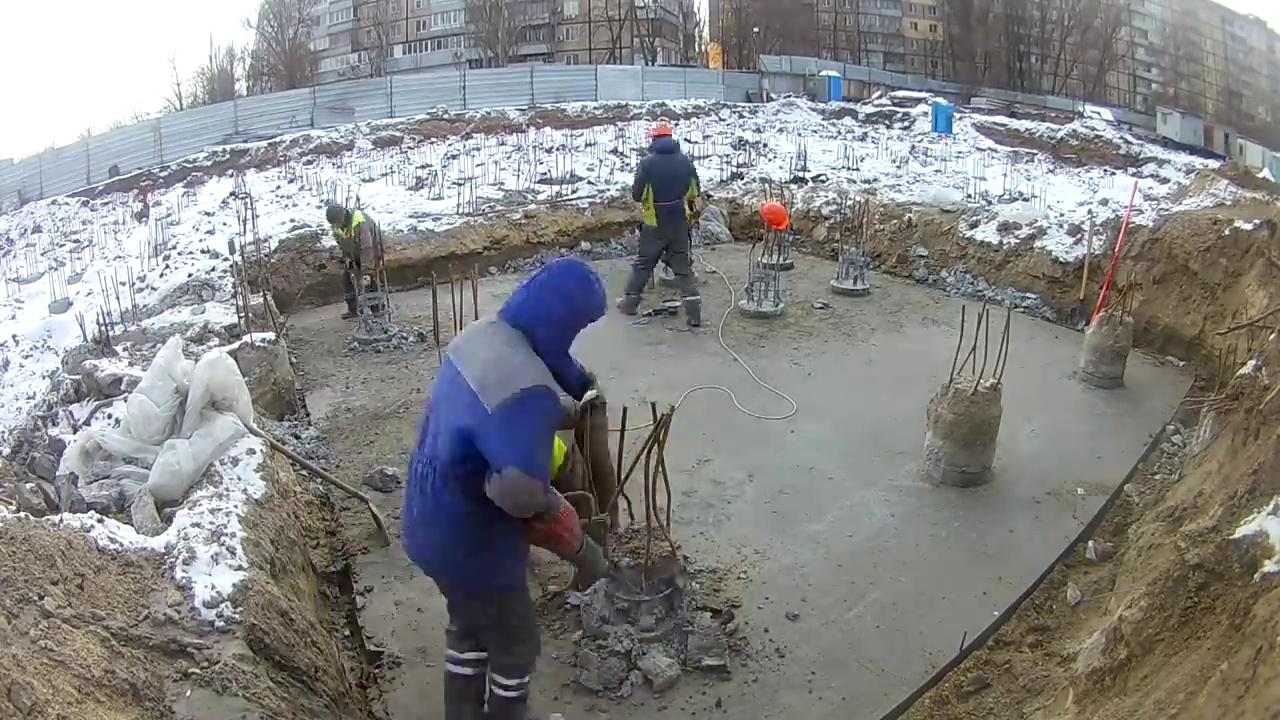helmet: (760, 201, 790, 234), (651, 125, 672, 138)
helmet-off: (488, 255, 611, 382), (325, 204, 353, 232)
helmet-on: (649, 121, 679, 157)
person: (411, 257, 622, 720), (616, 121, 703, 325), (319, 204, 389, 321)
